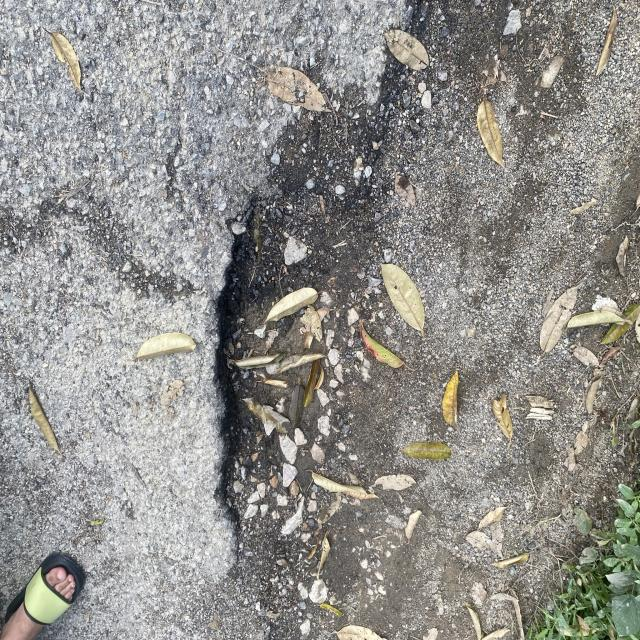pothole: (189, 102, 361, 625)
